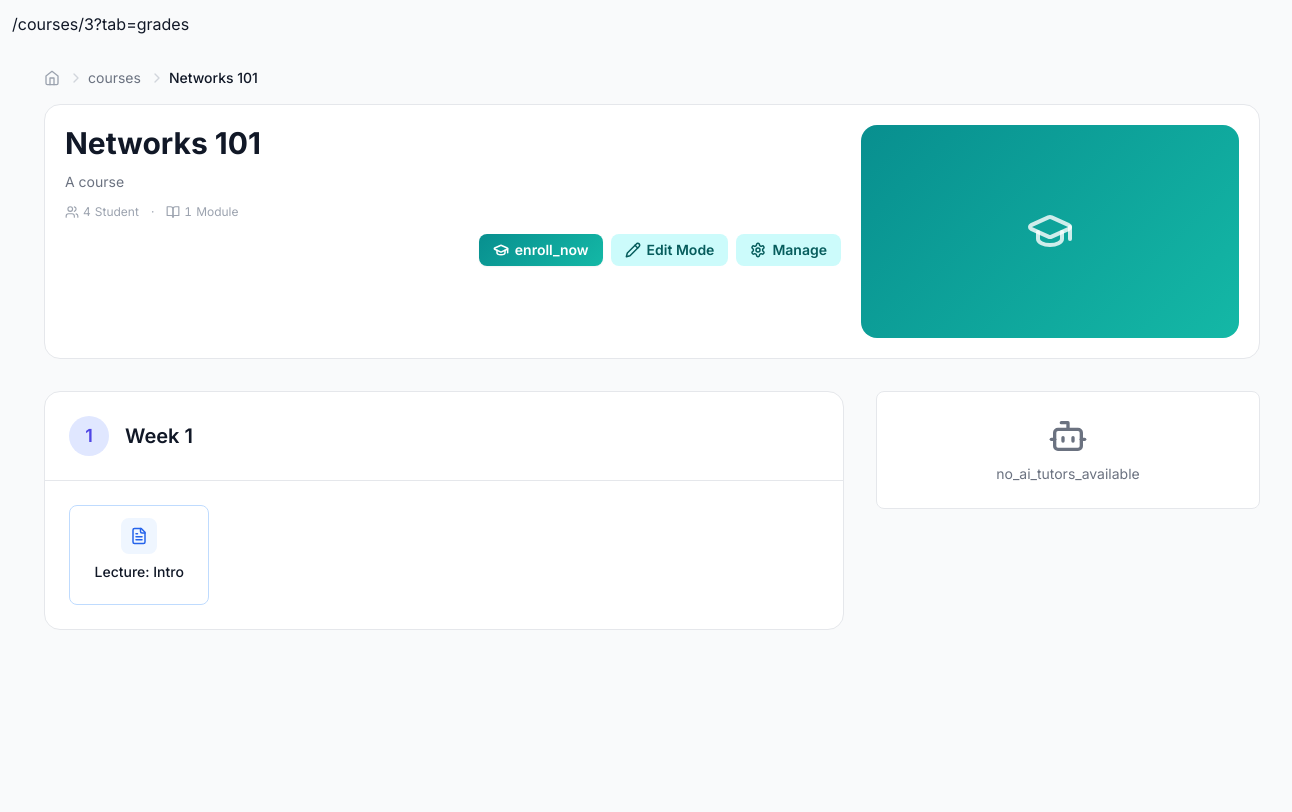
Test: CourseDetails edit mode comes from the URL › keeps any other query parameter when toggling
Click the button "Edit Mode" at [670, 250], box [611,234,728,266]
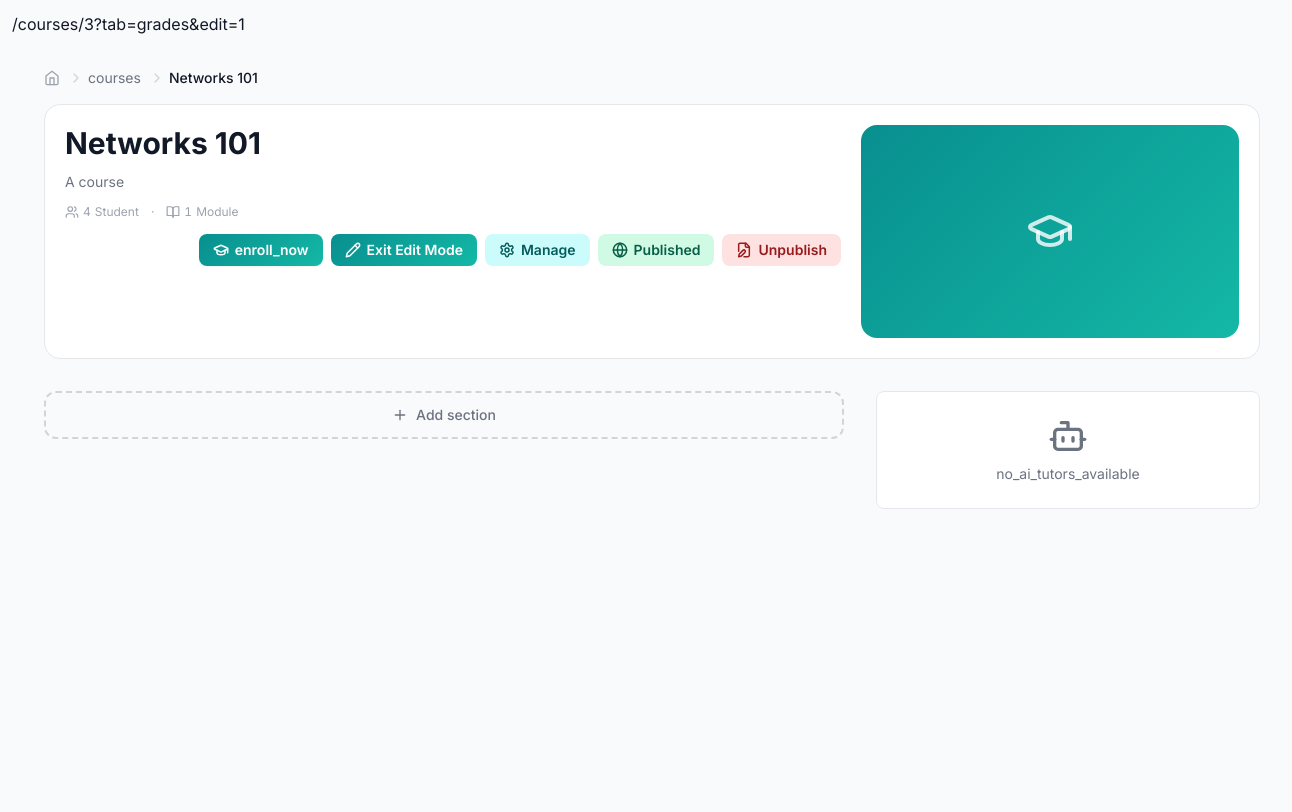
Expected: the text with test id "url" shows "tab=grades", [12,14,245,34]
Now the text with test id "url" shows "edit=1", box [12,14,245,34]
